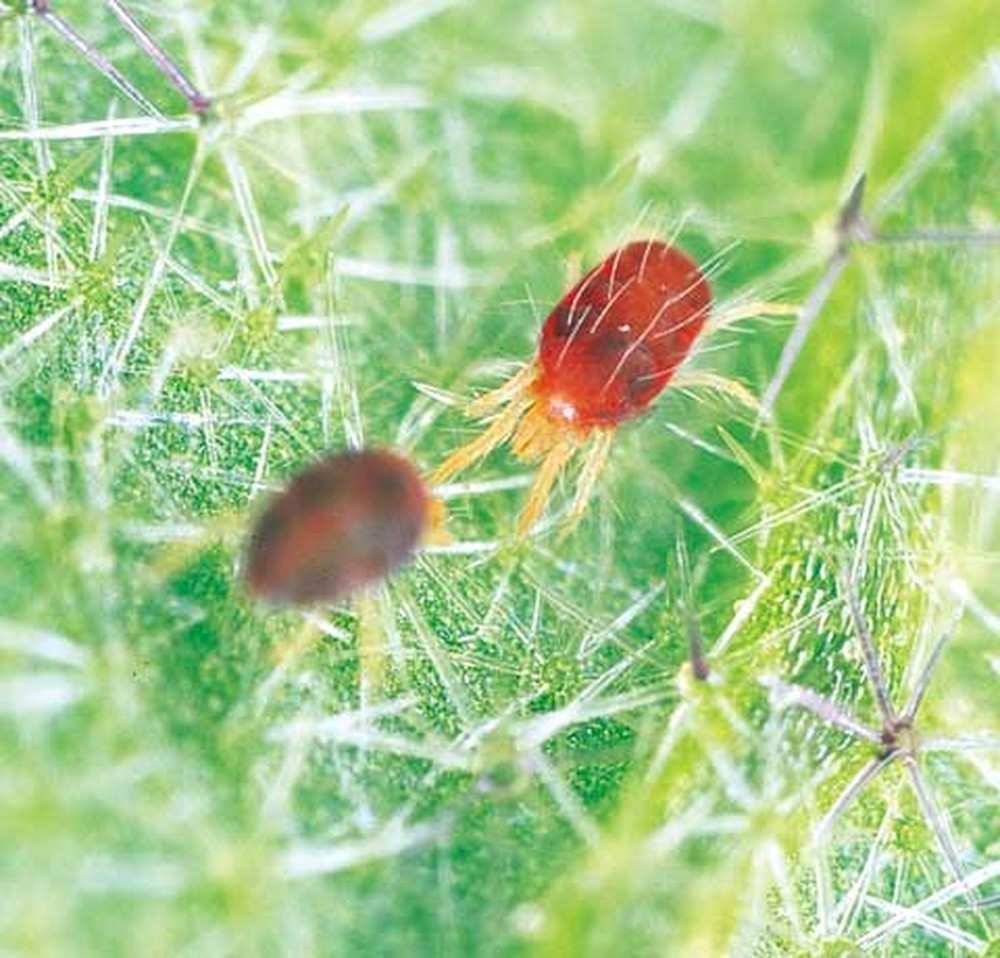Aracnido Rojo: (417, 208, 791, 530), (205, 401, 513, 682)
